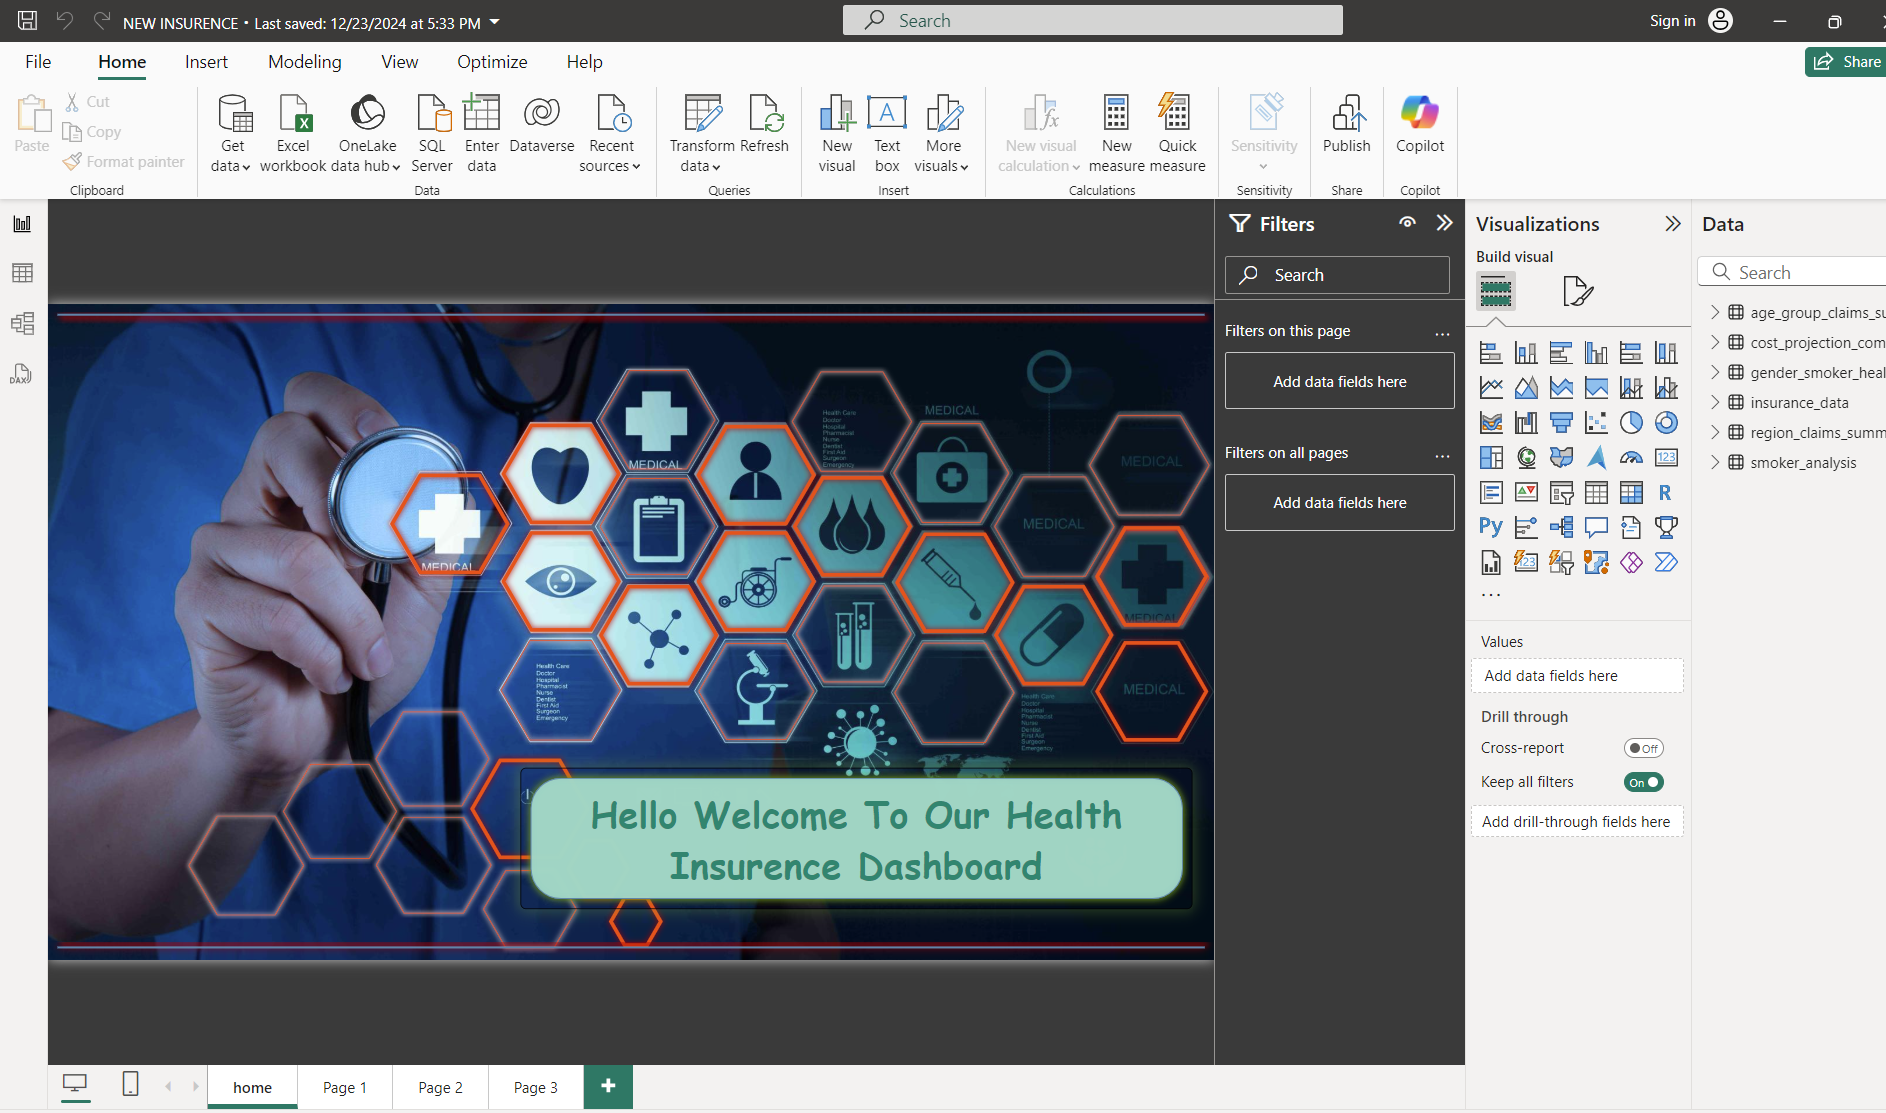

What the dashboard file says about the page in this screenshot:
{"tool":"powerbi","page":{"name":"home","canvas":[1280,720],"ordinal":0},"visuals":[{"type":"image","box":[1106.8,579.9,85.2,64.4],"z":0},{"type":"shape","box":[1144.2,243,136,115.1],"z":1000},{"type":"shape","box":[355.8,558.1,136,115.1],"z":2000},{"type":"shape","box":[709.3,367.4,136,115.1],"z":3000},{"type":"shape","box":[601.2,186,136,115.1],"z":4000},{"type":"shape","box":[816.3,304.7,136,115.1],"z":5000},{"type":"shape","box":[923.3,126.7,136,118.6],"z":6000},{"type":"shape","box":[491.9,243,144.2,123.3],"z":7000},{"type":"shape","box":[601.2,67.4,137.2,119.8],"z":8000},{"type":"shape","box":[1142.8,364,137.2,123.3],"z":9000},{"type":"shape","box":[597.7,302.3,144.2,123.3],"z":10000},{"type":"shape","box":[1142.8,237.2,137.2,123.3],"z":11000},{"type":"shape","box":[1032.6,302.3,144.2,123.3],"z":12000},{"type":"shape","box":[923.3,244.2,144.2,123.3],"z":13000},{"type":"shape","box":[811.6,182.6,144.2,123.3],"z":14000},{"type":"shape","box":[704.7,243,144.2,123.3],"z":15000},{"type":"shape","box":[704.7,125.6,144.2,123.3],"z":16000},{"type":"shape","box":[490.7,124.4,144.2,123.3],"z":17000},{"type":"shape","box":[252.3,500,136,115.1],"z":18000},{"type":"shape","box":[354.7,441.9,136,115.1],"z":19000},{"type":"shape","box":[491.9,364,143,120.9],"z":20000},{"type":"shape","box":[811.6,68.6,143,120.9],"z":21000},{"type":"shape","box":[1137,116.3,143,120.9],"z":22000},{"type":"shape","box":[1033.7,183.7,143,120.9],"z":23000},{"type":"shape","box":[923.3,366.3,143,120.9],"z":24000},{"type":"shape","box":[369.8,180.2,144.2,123.3],"z":25000},{"type":"shape","box":[457,493,144.2,123.3],"z":26000},{"type":"shape","box":[150,557,136,118.6],"z":27000},{"type":"shape","box":[472.1,616.3,114,96.5],"z":28000},{"type":"shape","box":[562.8,580.2,82.6,79.1],"z":29000},{"type":"shape","box":[609.3,644.2,72.1,68.6],"z":30000},{"type":"shape","box":[518.6,509.2,737.9,154.9],"z":31000},{"type":"shape","box":[0,1.2,1280,19.8],"z":32000},{"type":"shape","box":[0,693,1280.2,26.7],"z":33000}]}

Visuals, with their boxes on the page's 1280x720 design canvas (x1, y1, x2, y2). These are canvas units, not pixel positions in the 1886x1113 screenshot, which may show the page scaled, cropped or inside an application window:
image: (1107, 580, 1192, 644)
shape: (1144, 243, 1280, 358)
shape: (356, 558, 492, 673)
shape: (709, 367, 845, 482)
shape: (601, 186, 737, 301)
shape: (816, 305, 952, 420)
shape: (923, 127, 1059, 245)
shape: (492, 243, 636, 366)
shape: (601, 67, 738, 187)
shape: (1143, 364, 1280, 487)
shape: (598, 302, 742, 426)
shape: (1143, 237, 1280, 360)
shape: (1033, 302, 1177, 426)
shape: (923, 244, 1068, 368)
shape: (812, 183, 956, 306)
shape: (705, 243, 849, 366)
shape: (705, 126, 849, 249)
shape: (491, 124, 635, 248)
shape: (252, 500, 388, 615)
shape: (355, 442, 491, 557)
shape: (492, 364, 635, 485)
shape: (812, 69, 955, 190)
shape: (1137, 116, 1280, 237)
shape: (1034, 184, 1177, 305)
shape: (923, 366, 1066, 487)
shape: (370, 180, 514, 304)
shape: (457, 493, 601, 616)
shape: (150, 557, 286, 676)
shape: (472, 616, 586, 713)
shape: (563, 580, 645, 659)
shape: (609, 644, 681, 713)
shape: (519, 509, 1256, 664)
shape: (0, 1, 1280, 21)
shape: (0, 693, 1280, 720)
